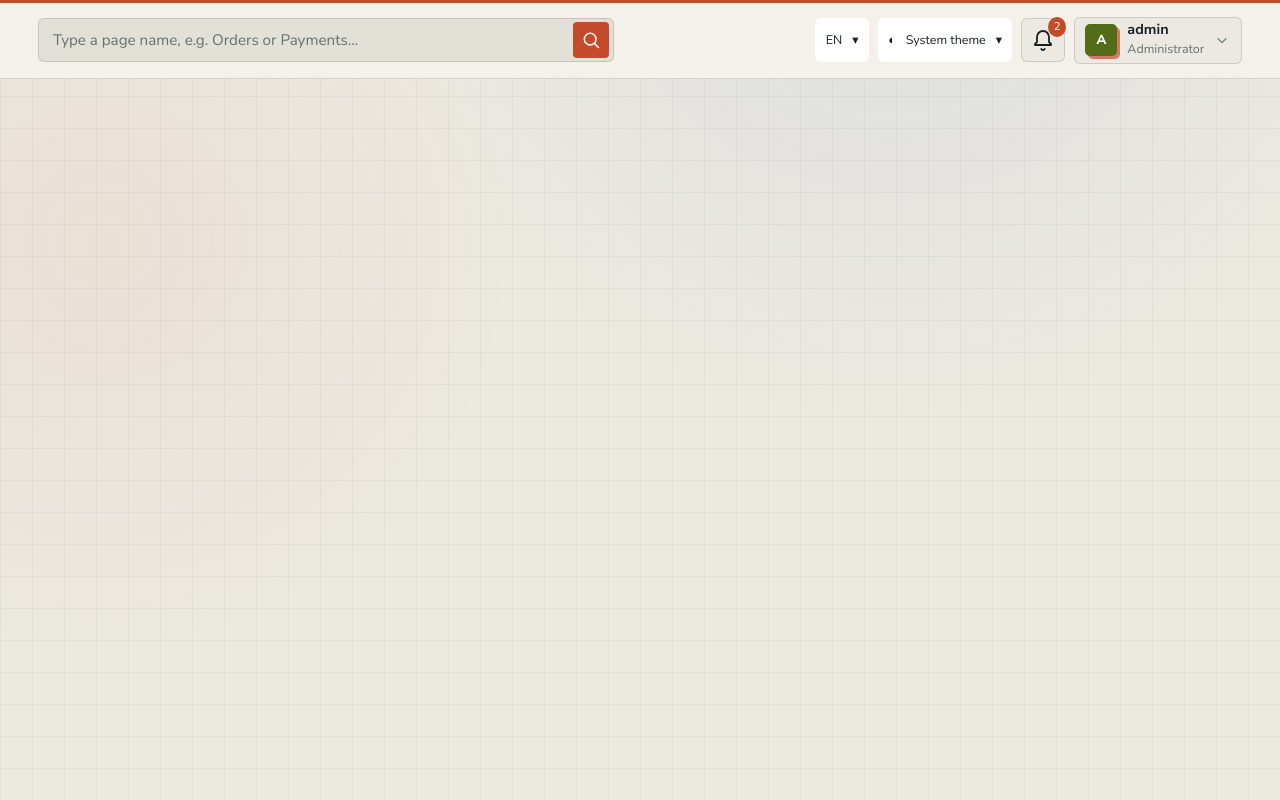
Test: AdminHeader activity feed request states › exposes activity actions as links and can mark the feed as read
Click the button named "Notifications, 2 unread" at point(1043, 40), box [1021,18,1065,62]
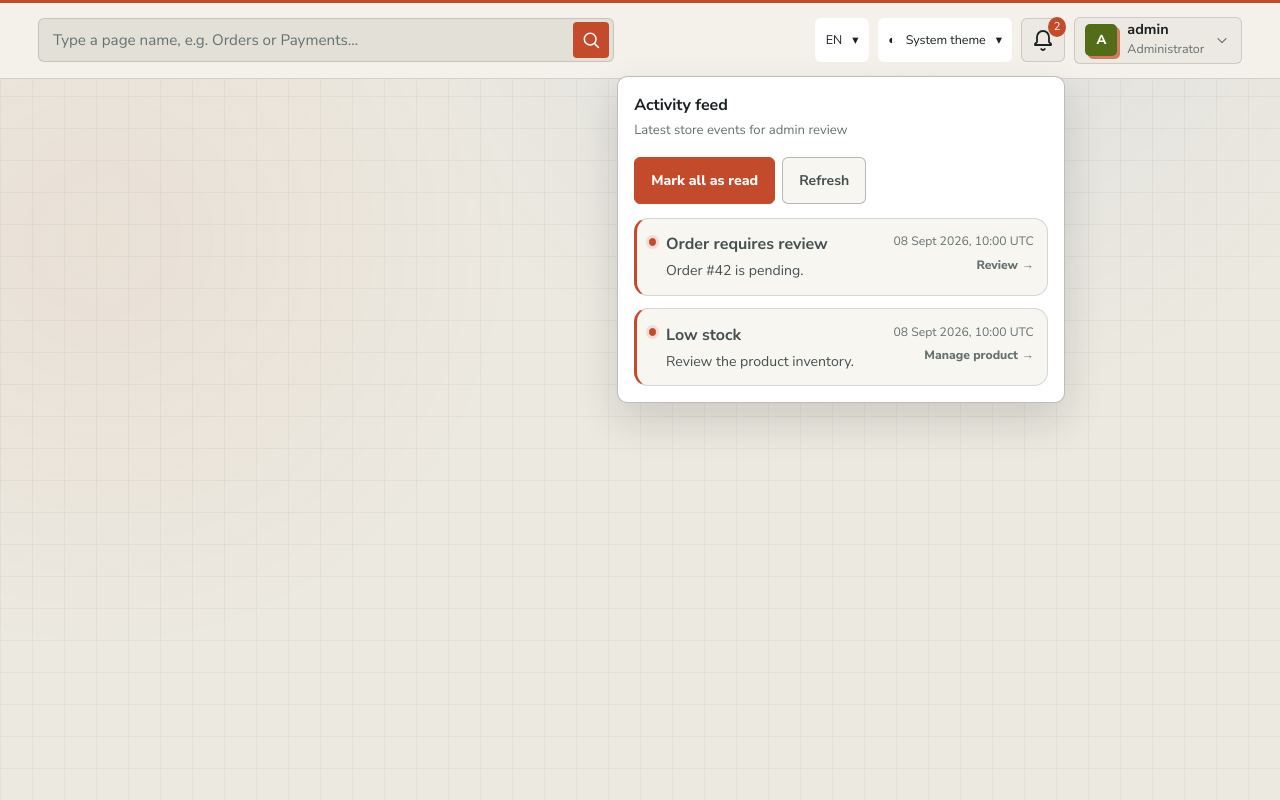
Click the button "Mark all as read" at point(705, 181), box [634,157,775,204]
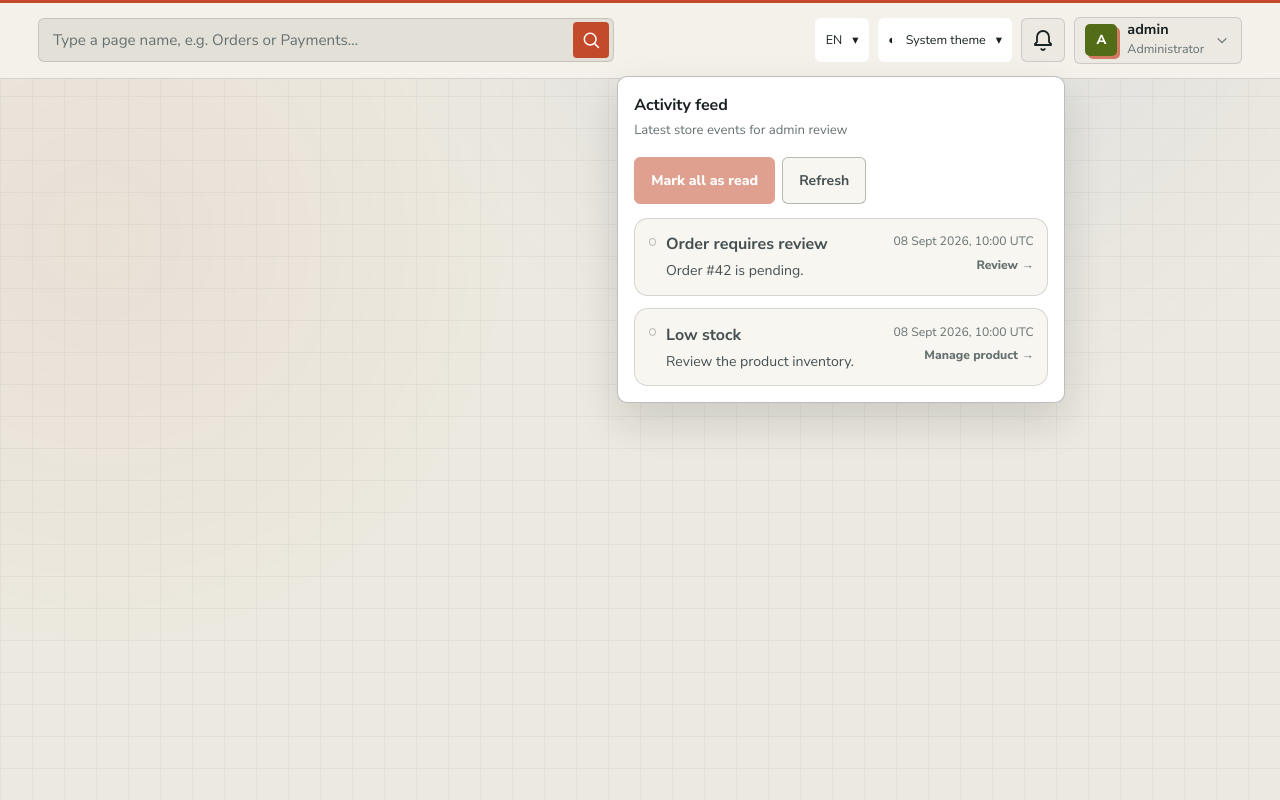
Check: the button named "Notifications" is shown, box [1021,18,1065,62]
Check: the button "Mark all as read" is disabled, box [634,157,775,204]
